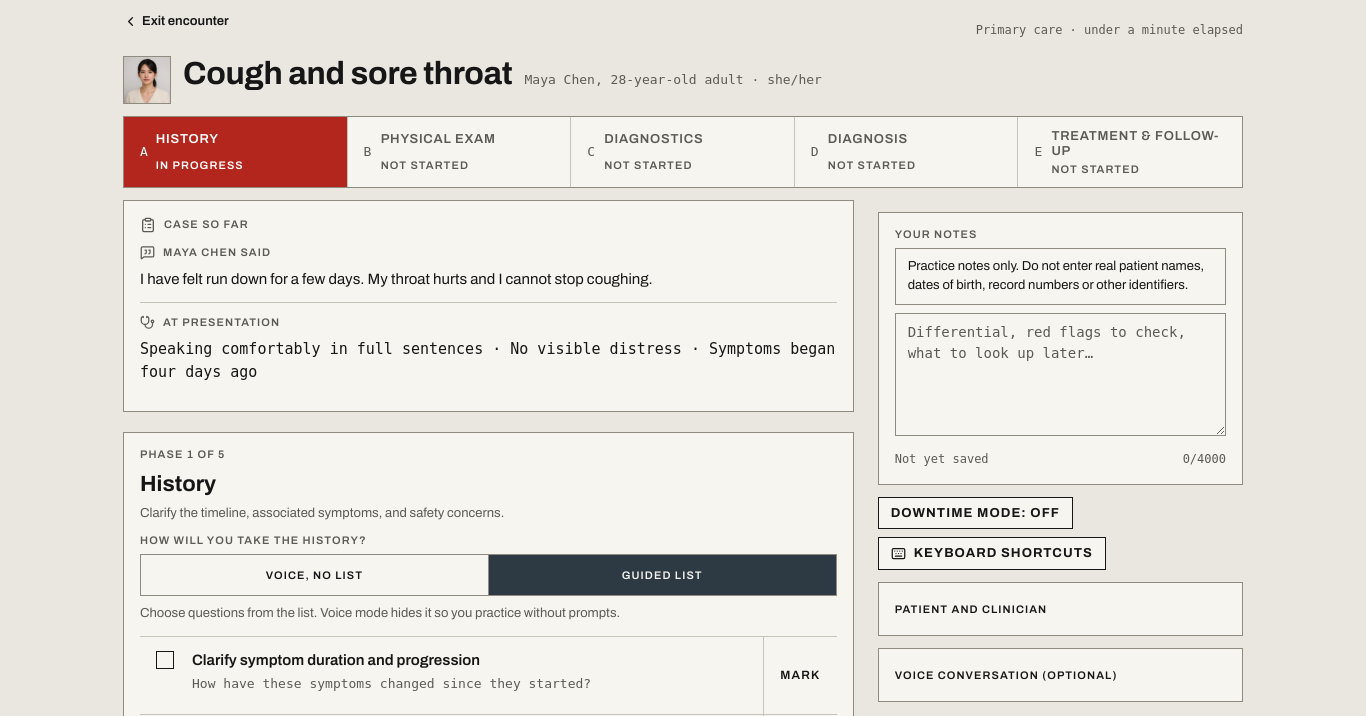
Test: notes › autosaves, shows the privacy notice at the field, and hints at identifier-like text
The image size is (1366, 716).
Type "Pt DOB 04/12/1990" into the text box named "Notes for this attempt" at (1060, 374), box 895,313 -> 1226,436
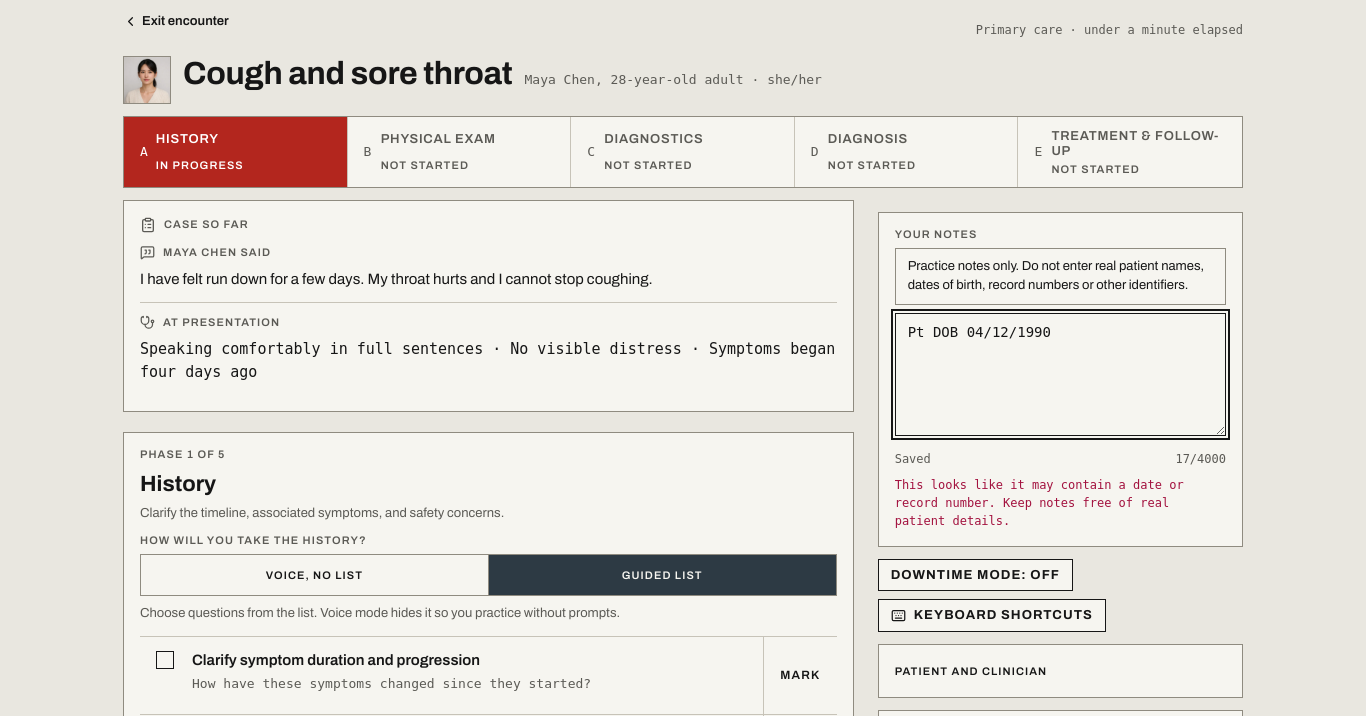
Now the text "looks like it may contain a date or record number" is shown, box 895,478 -> 1184,528
